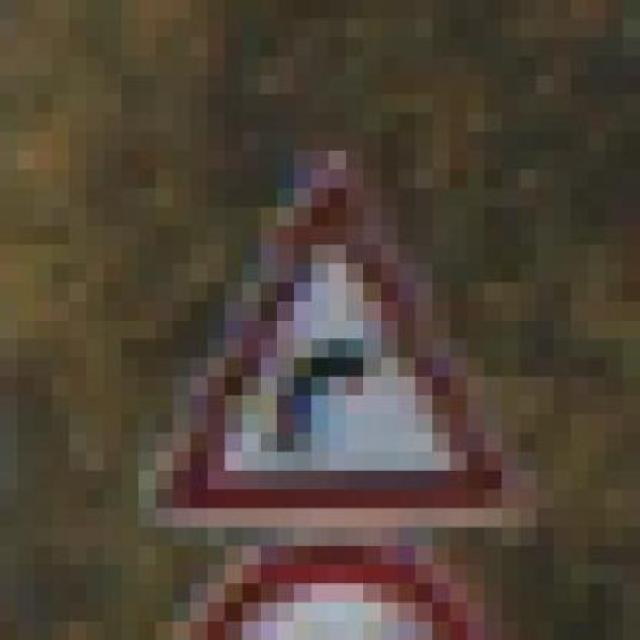Dangerous Rright Curve Ahead: (121, 151, 519, 546)
